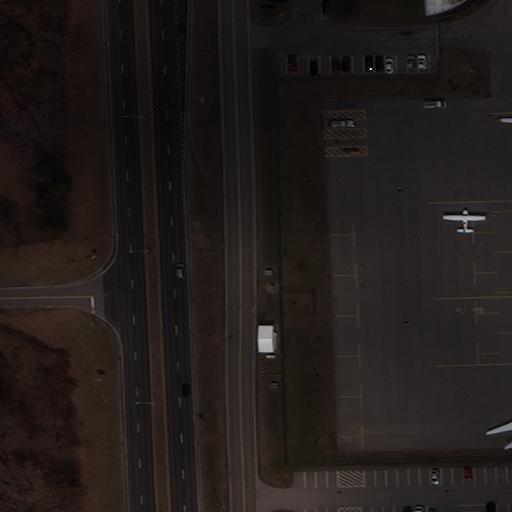Small Civil Transport: (442, 209, 485, 232)
